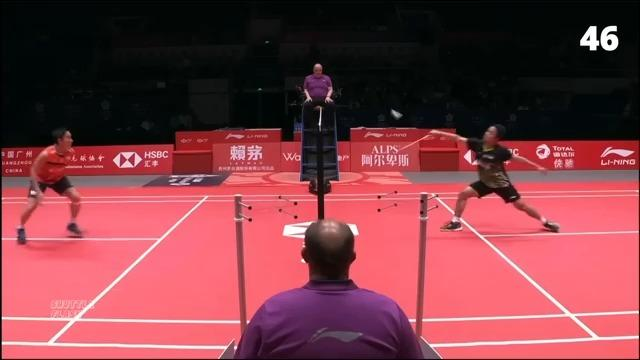Shuttlecock: (389, 106, 405, 122)
